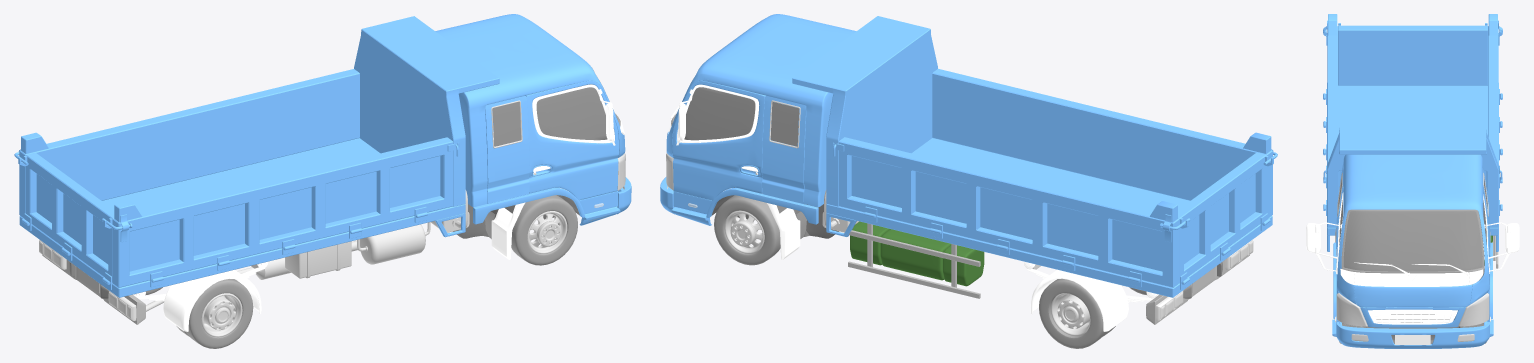
The model's file is FarmVehicle.glb.
The picture shows the model from 3 angles, left to right: view 1: azimuth 30°, elevation 25°; view 2: azimuth 150°, elevation 25°; view 3: azimuth 270°, elevation 25°; orthographic projection. The views are drawn at different scales.
Parts seen in each view (by area): view 1: Nongyongche_03, Nongyongche_06, Nongyongche_10, Nongyongche_16, Nongyongche_wheelFR_1, Nongyongche_wheelBR_1, Nongyongche_05, Nongyongche_04, Nongyongche_wheelBR_2, Nongyongche_wheelFR_2, Nongyongche_08, Nongyongche_07 (+3 smaller); view 2: Nongyongche_03, Nongyongche_06, Nongyongche_10, Nongyongche_29, Nongyongche_16, Nongyongche_wheelFL_1, Nongyongche_wheelBL_1, Nongyongche_30, Nongyongche_wheelBL_2, Nongyongche_wheelFL_2, Nongyongche_07, Nongyongche_24 (+2 smaller); view 3: Nongyongche_03, Nongyongche_06, Nongyongche_10, Nongyongche_33, Nongyongche_34.001, Nongyongche_18, Nongyongche_09, Nongyongche_12, Nongyongche_13, Nongyongche_22, Nongyongche_02, Nongyongche_17 (+3 smaller).
Boxes of the visible parts, x1,y1,x2,y2 form: Nongyongche_03: (14, 16, 499, 297); Nongyongche_06: (435, 14, 631, 225); Nongyongche_10: (492, 84, 617, 146); Nongyongche_16: (133, 261, 268, 331); Nongyongche_wheelFR_1: (511, 195, 577, 265); Nongyongche_wheelBR_1: (176, 279, 253, 348); Nongyongche_05: (357, 222, 430, 264); Nongyongche_04: (285, 241, 351, 278); Nongyongche_wheelBR_2: (201, 293, 242, 337); Nongyongche_wheelFR_2: (527, 211, 567, 253); Nongyongche_08: (146, 190, 469, 311); Nongyongche_07: (491, 202, 525, 259); Nongyongche_03: (792, 16, 1277, 297); Nongyongche_06: (660, 14, 856, 225); Nongyongche_10: (674, 87, 799, 146); Nongyongche_29: (850, 221, 984, 286); Nongyongche_16: (1024, 261, 1158, 331); Nongyongche_wheelFL_1: (714, 195, 780, 265); Nongyongche_wheelBL_1: (1039, 278, 1115, 348); Nongyongche_30: (848, 223, 980, 298); Nongyongche_wheelBL_2: (1051, 293, 1090, 336); Nongyongche_wheelFL_2: (724, 210, 764, 253); Nongyongche_07: (767, 203, 800, 259); Nongyongche_24: (1146, 255, 1249, 324); Nongyongche_03: (1323, 14, 1502, 251); Nongyongche_06: (1332, 154, 1493, 348); Nongyongche_10: (1338, 179, 1487, 271); Nongyongche_33: (1340, 242, 1484, 324); Nongyongche_34.001: (1336, 293, 1489, 326); Nongyongche_18: (1306, 222, 1519, 273); Nongyongche_09: (1341, 209, 1484, 273); Nongyongche_12: (1368, 309, 1457, 344); Nongyongche_13: (1374, 314, 1451, 323); Nongyongche_22: (1335, 268, 1490, 343); Nongyongche_02: (1366, 307, 1460, 310); Nongyongche_17: (1337, 192, 1488, 274).
Bounding box in the file's own units: 5.62 × 1.99 × 2.24.
